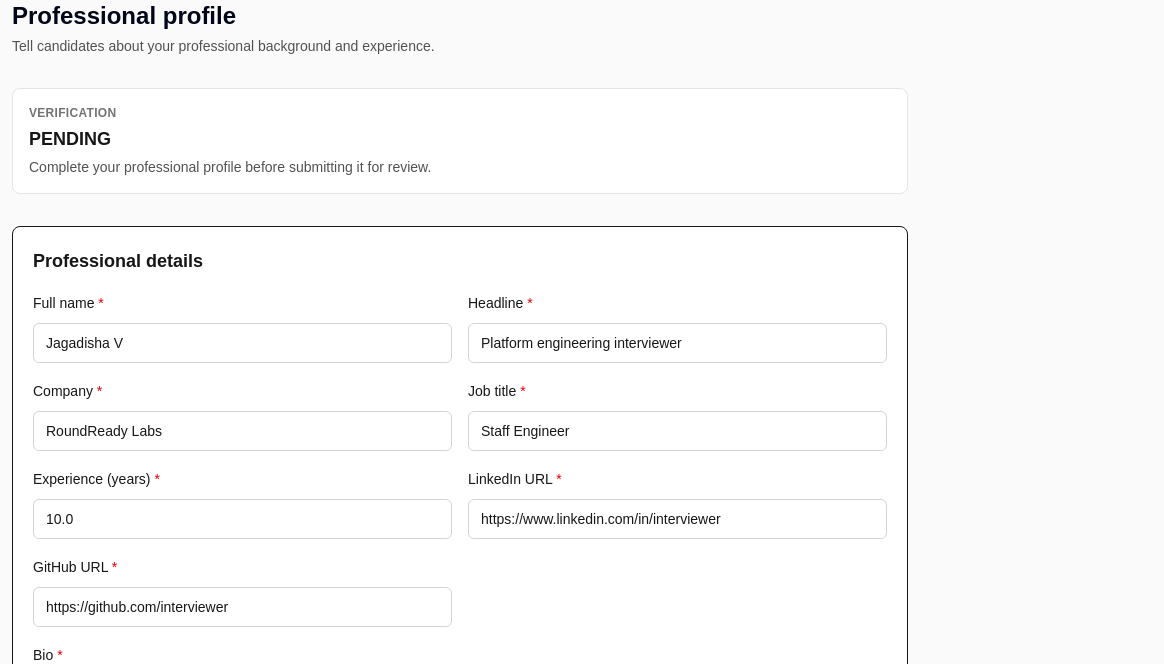
Scenario: InterviewerWorkspace › saves a profile without an arbitrary user id
The width and height of the screenshot is (1164, 664).
Replace the text in the field labelled "Headline" with "Updated headline" at (678, 343), box [468,323,887,363]
(page scrolled)
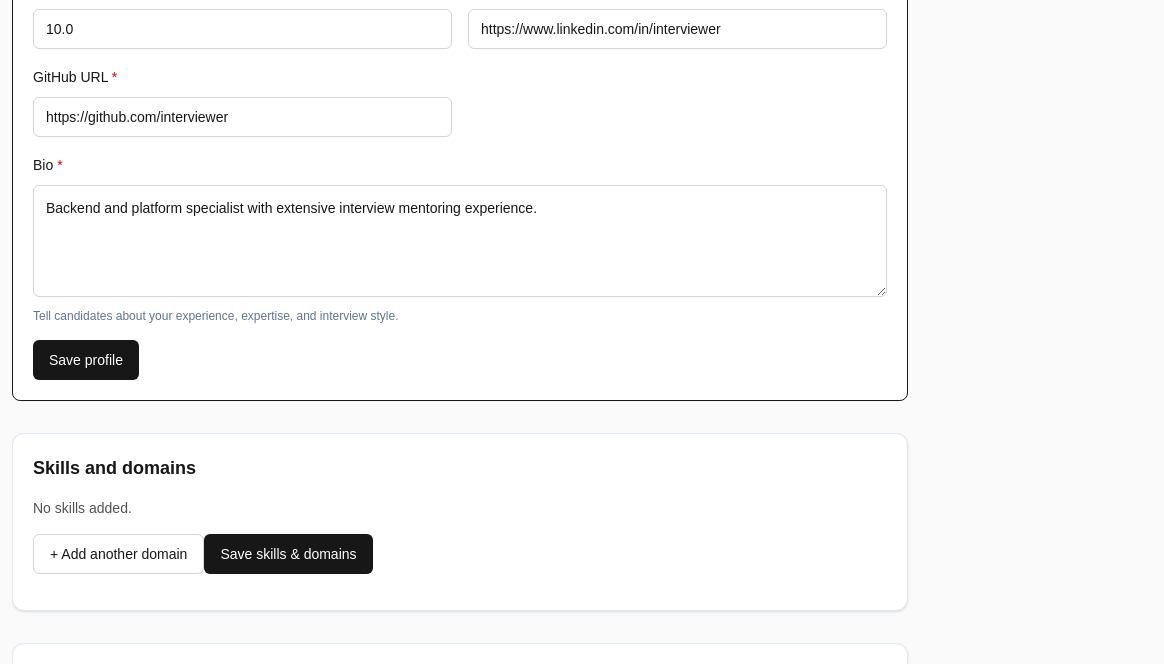
Click the button "Save profile".
click(86, 360)  # box [33,340,139,380]
(page scrolled)
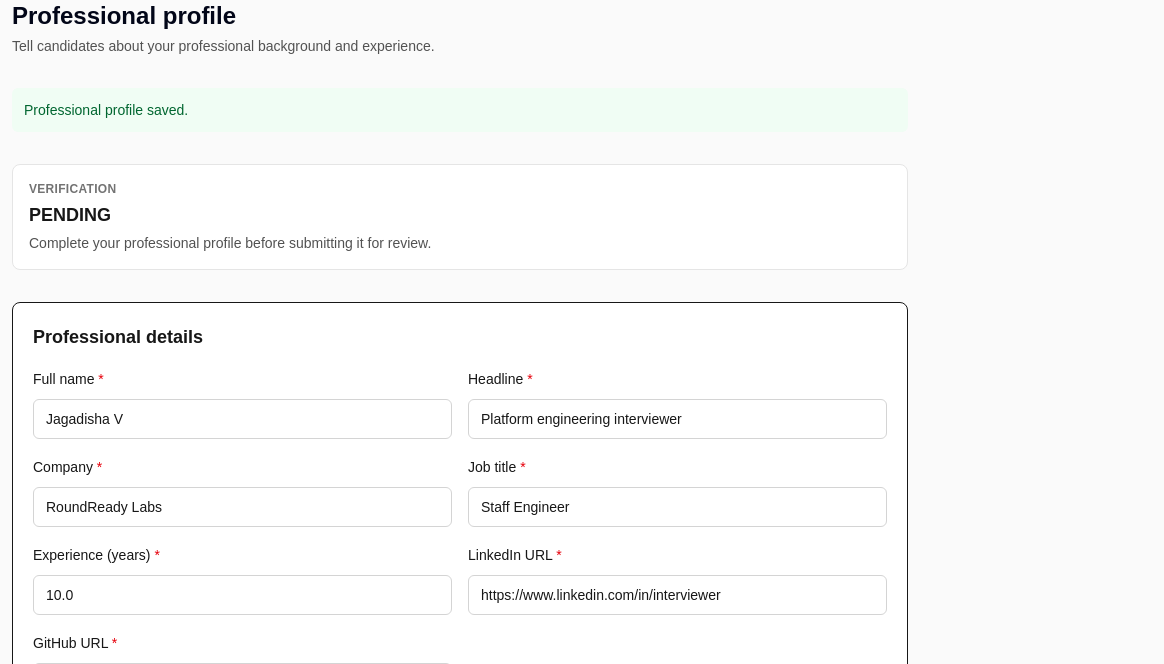
Expected: the text "Professional profile saved." is shown, [12,88,908,132]
